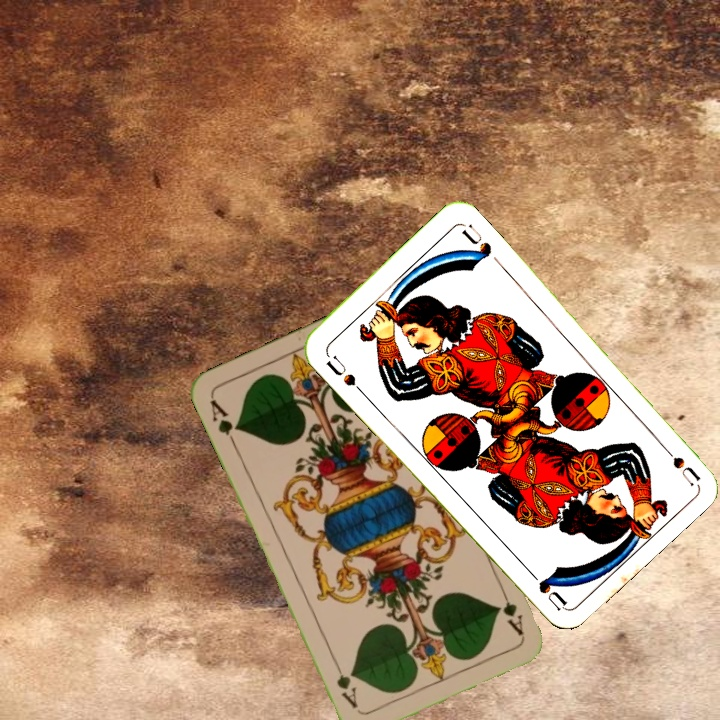GA: (206, 395, 243, 450), (496, 581, 527, 638)
SU: (654, 437, 702, 488), (322, 351, 367, 397)
